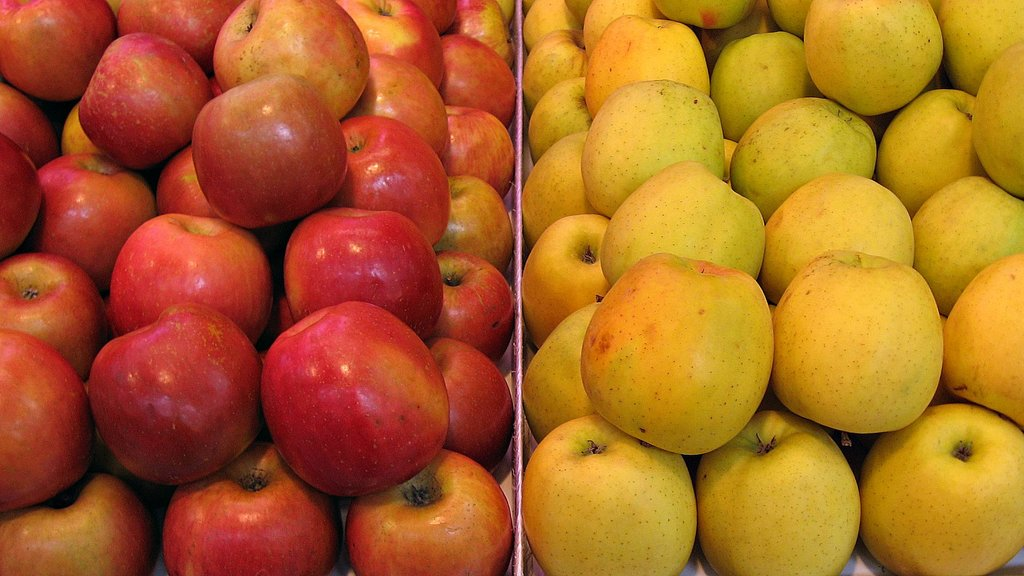Apple: (0, 0, 520, 575), (520, 0, 1023, 575), (247, 302, 437, 492)
